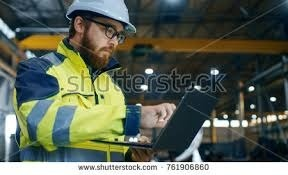helmet: (66, 1, 140, 32)
person with full safety: (18, 1, 138, 164)
safety vest: (24, 48, 131, 156)
